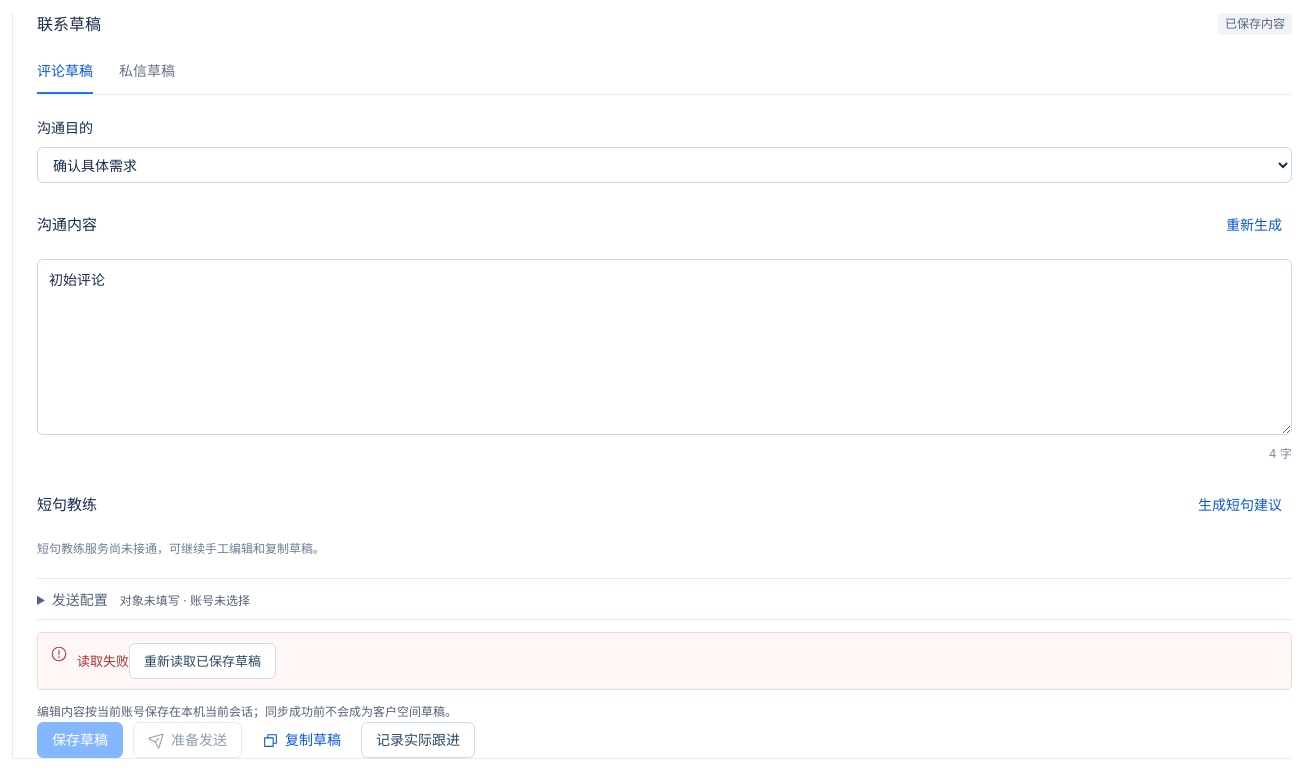
it: ordinary client contact draft persistence › blocks saving after a failed latest read, allows retry, and does not invent a predecessor
Expected: the text "读取失败" is shown, [77,653,129,669]
Expected: the button "保存草稿" is disabled, [37,722,123,758]
Click the button "重新读取已保存草稿" at x=202, y=661, box [129,643,276,679]
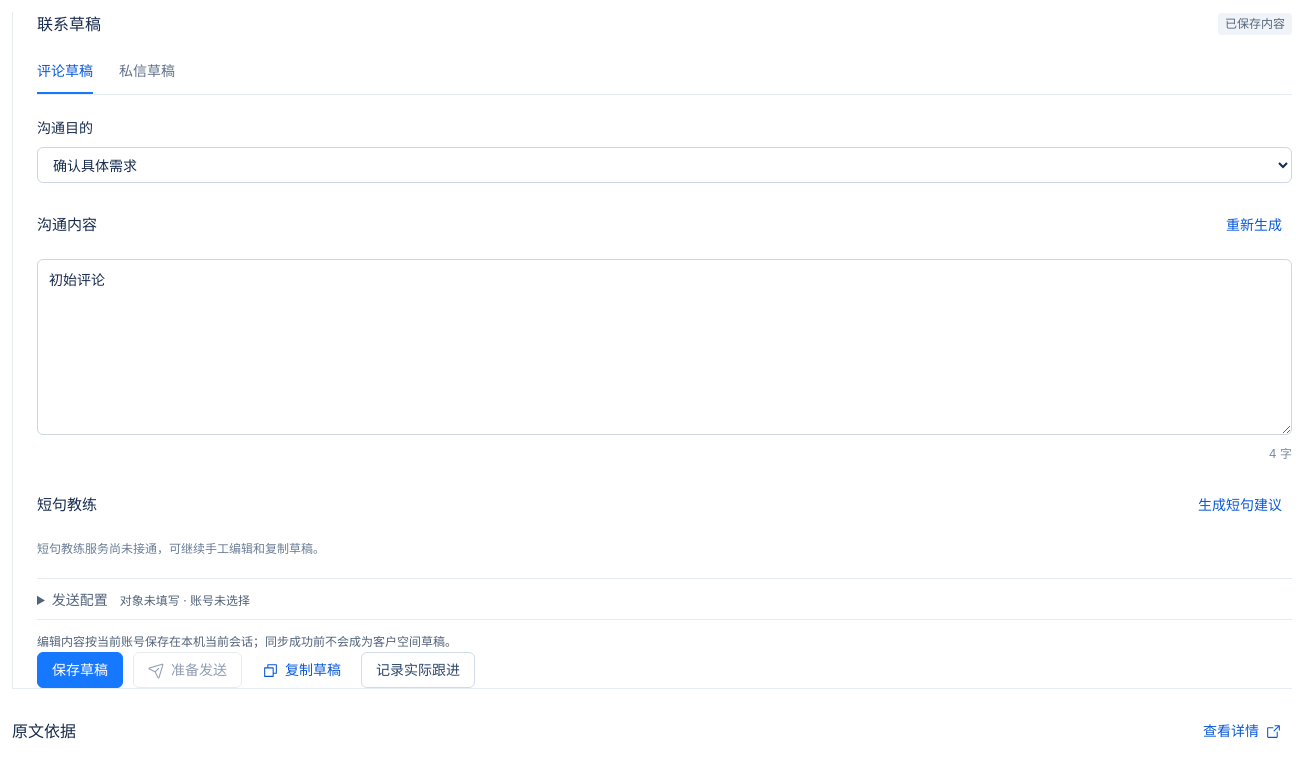
Expected: the button "保存草稿" is enabled, [37,652,123,688]
